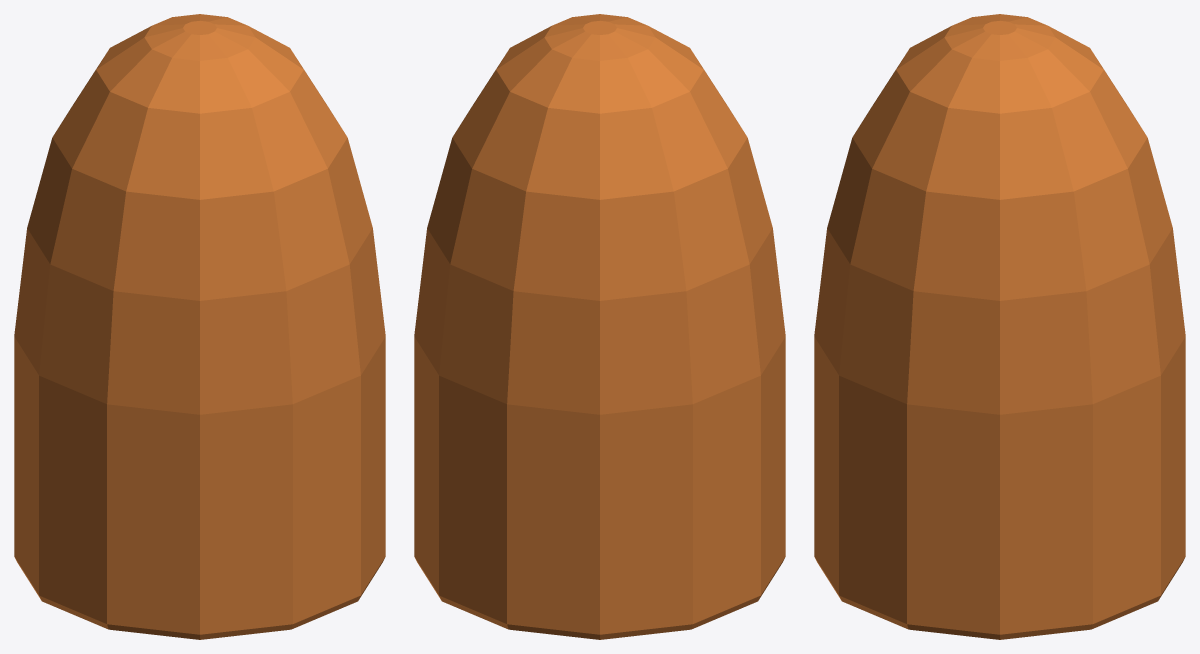
File: 9mm-Bullet-1-Standard.fbx
The picture shows the model from 3 angles, left to right: view 1: azimuth 30°, elevation 25°; view 2: azimuth 150°, elevation 25°; view 3: azimuth 270°, elevation 25°; orthographic projection.
Visible parts, largest first — view 1: 9mmBullet1Standard; view 2: 9mmBullet1Standard; view 3: 9mmBullet1Standard.
Boxes of the visible parts, x1=… form: 9mmBullet1Standard: x1=14, y1=14, x2=385, y2=639; 9mmBullet1Standard: x1=414, y1=14, x2=785, y2=639; 9mmBullet1Standard: x1=814, y1=14, x2=1185, y2=639.
Bounding box in the file's own units: 0.00903 × 0.0144 × 0.00903.
